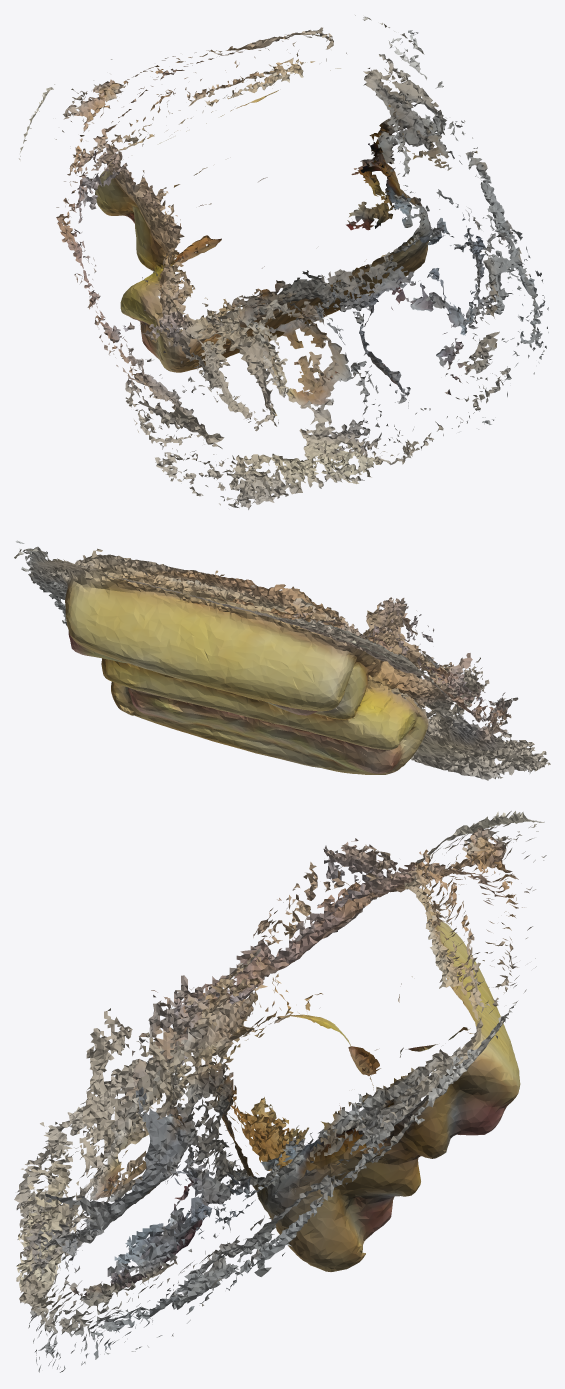
3 renders of one model, top to bottom at view 1: azimuth 30°, elevation 25°; view 2: azimuth 150°, elevation 25°; view 3: azimuth 270°, elevation 25°, orthographic. The views are drawn at different scales.
Parts seen in each view (by area): view 1: geometry_0; view 2: geometry_0; view 3: geometry_0.
Boxes of the visible parts, x1=… form: geometry_0: x1=19, y1=15, x2=548, y2=509; geometry_0: x1=14, y1=540, x2=550, y2=780; geometry_0: x1=14, y1=811, x2=546, y2=1372.
Size of the model in its own units: 6.83 by 4.57 by 5.6.
